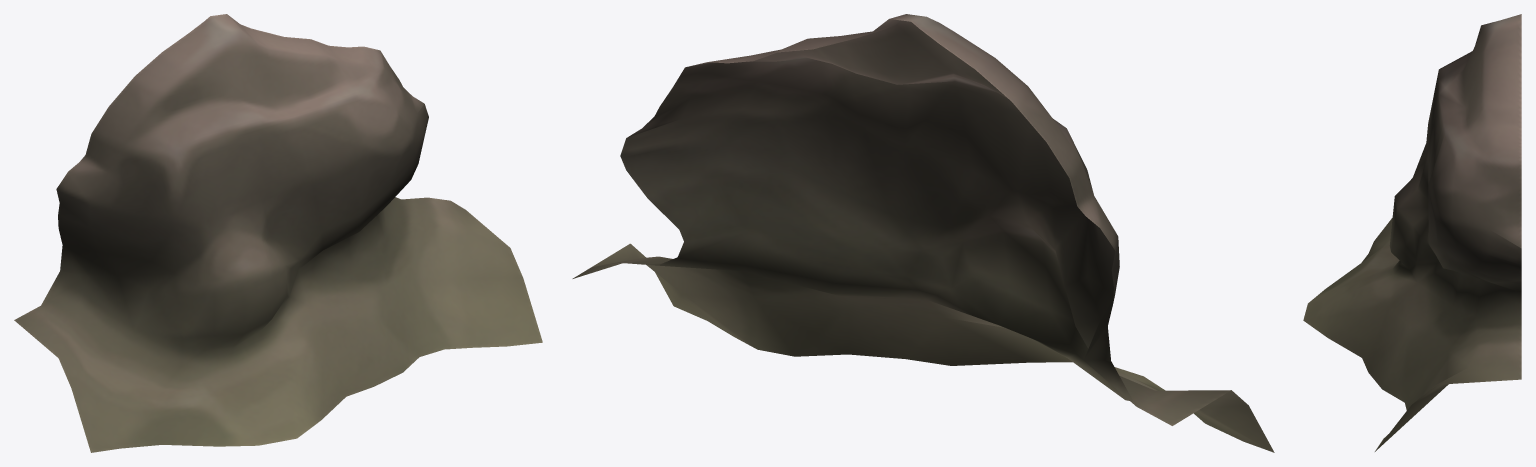
The model's file is Border_Rock_2.FBX.
The picture shows the model from 3 angles, left to right: view 1: azimuth 30°, elevation 25°; view 2: azimuth 150°, elevation 25°; view 3: azimuth 270°, elevation 25°; orthographic projection. The views are drawn at different scales.
Visible parts, largest first — view 1: Border_Rock_2; view 2: Border_Rock_2; view 3: Border_Rock_2.
Part boxes in pixels (bbox=[...]): Border_Rock_2: bbox=[14, 14, 542, 452]; Border_Rock_2: bbox=[572, 14, 1274, 452]; Border_Rock_2: bbox=[1303, 14, 1521, 451].
Bounding box in the file's own units: 800 × 563 × 349.
